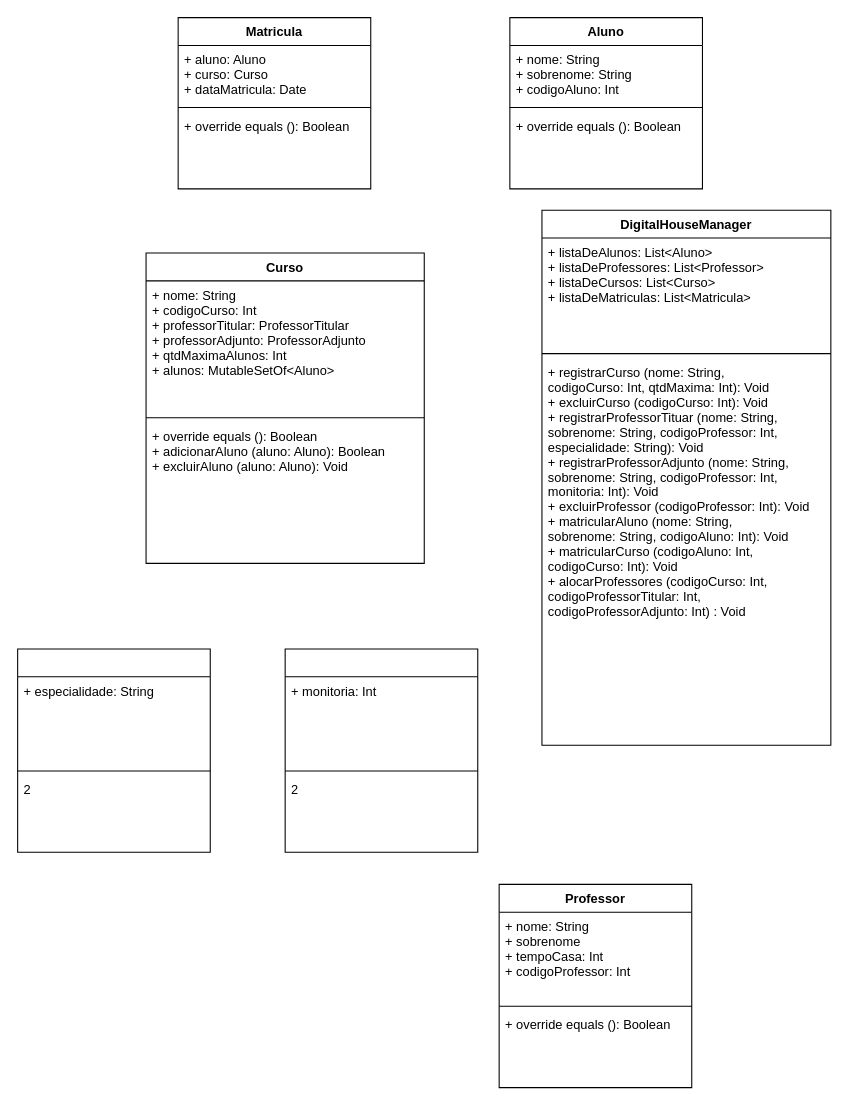
The diagram is 849 pixels wide and 1105 high, and some of its shapes have lost their labels. The shapes that lost their labels are listed below. From the top down, each one's box as (x1, y1, x2, y2) in pixels, then its label:
(17, 648, 210, 852): ProfessorTitular
(284, 648, 478, 852): ProfessorAdjunto
